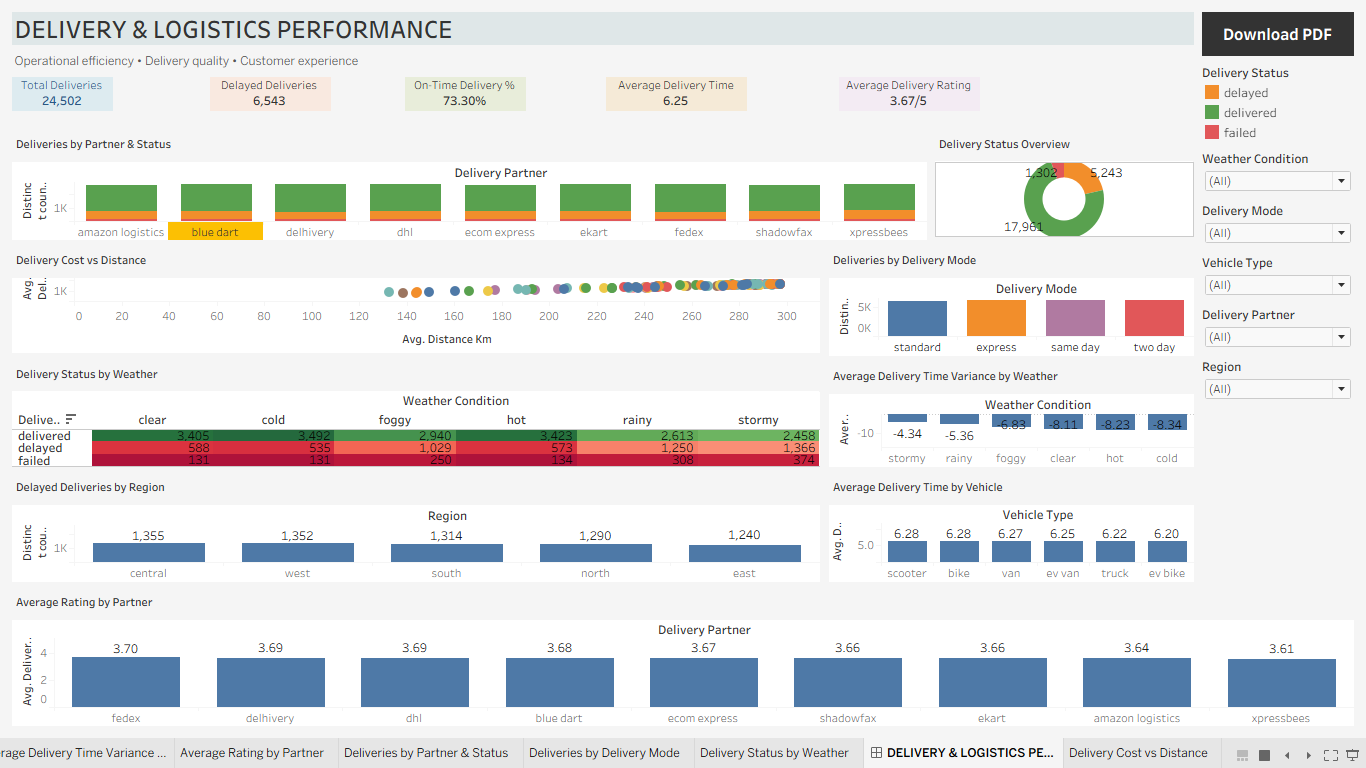

The page's visual inventory and layout, read from the dashboard file:
{"tool":"tableau","page":{"name":"DELIVERY & LOGISTICS PERFORMANCE","canvas":[1000,1000],"units":"permille","ordinal":0},"visuals":[{"type":"title","box":[6,13.5,868.7,60.5]},{"type":"dashboard-object","box":[874.6,13.5,119.4,87.8]},{"type":"text","box":[6,74,868.7,40.5]},{"type":"legend","title":"Delivery Status Overview","param":"[federated.03cug4i1saw9xf1507eqc01hjee7].[none:delivery_status:nk]","box":[874.6,101.4,119.4,145.3]},{"type":"worksheet","title":"TOTAL DELIVERIES","mark":"Automatic","box":[6,114.5,144.8,60.5]},{"type":"worksheet","title":"DELAYED DELIVERIES","mark":"Automatic","box":[150.7,114.5,142.3,60.5]},{"type":"worksheet","title":"On-Time Delivery %","mark":"Automatic","box":[293,114.5,146.5,60.5]},{"type":"worksheet","title":"Average Delivery Time","mark":"Automatic","box":[439.5,114.5,169.9,60.5]},{"type":"worksheet","title":"Average Delivery Rating","mark":"Automatic","box":[609.4,114.5,265.2,60.5]},{"type":"worksheet","title":"Deliveries by Partner & Status","mark":"Bar","rows":["delivery_id"],"cols":["delivery_partner"],"box":[6,175,674,157.2]},{"type":"worksheet","title":"Delivery Status Overview","mark":"Pie","rows":["Calculation_2459914980171777","Calculation_2459914980171777"],"box":[680,175,194.7,157.2]},{"type":"filter","title":"Average Delivery Time by Vehicle","param":"[federated.03cug4i1saw9xf1507eqc01hjee7].[none:weather_condition:nk]","box":[874.6,246.6,119.4,87.8]},{"type":"worksheet","title":"Delivery Cost vs Distance","mark":"Circle","rows":["delivery_cost"],"cols":["distance_km"],"box":[6,332.2,596,152.4]},{"type":"worksheet","title":"Deliveries by Delivery Mode","mark":"Automatic","rows":["delivery_id"],"cols":["delivery_mode"],"box":[602,332.2,272.6,155.7]},{"type":"filter","title":"Average Delivery Time by Vehicle","param":"[federated.03cug4i1saw9xf1507eqc01hjee7].[none:delivery_mode:nk]","box":[874.6,334.4,119.4,87.8]},{"type":"filter","title":"Average Delivery Time by Vehicle","param":"[federated.03cug4i1saw9xf1507eqc01hjee7].[none:vehicle_type:nk]","box":[874.6,422.3,119.4,87.8]},{"type":"worksheet","title":"Delivery Status by Weather","mark":"Square","rows":["delivery_status"],"cols":["weather_condition"],"box":[6,484.6,596,152.6]},{"type":"worksheet","title":"Average Delivery Time Variance by Weather","mark":"Bar","rows":["Calculation_2459914985918466"],"cols":["weather_condition"],"box":[602,487.9,272.6,149.3]},{"type":"filter","title":"Average Delivery Time by Vehicle","param":"[federated.03cug4i1saw9xf1507eqc01hjee7].[none:delivery_partner:nk]","box":[874.6,510.1,119.4,87.8]},{"type":"filter","title":"Average Delivery Time by Vehicle","param":"[federated.03cug4i1saw9xf1507eqc01hjee7].[none:region:nk]","box":[874.6,597.9,119.4,87.8]},{"type":"worksheet","title":"Delayed Deliveries by Region","mark":"Automatic","rows":["delivery_id"],"cols":["region"],"box":[6,637.2,596,154.6]},{"type":"worksheet","title":"Average Delivery Time by Vehicle","mark":"Automatic","rows":["delivery_time_hours"],"cols":["vehicle_type"],"box":[602,637.2,272.6,154.6]},{"type":"worksheet","title":"Average Rating by Partner","mark":"Bar","rows":["delivery_rating"],"cols":["delivery_partner"],"box":[6,791.8,988.1,194.7]}]}

Visuals, with their boxes on the dashboard's canvas, which has no fixed pixel size, in thousandths of its width and height (x1, y1, x2, y2). These are canvas units, not pixel positions in the 1366x768 screenshot, which may show the page scaled, cropped or inside an application window:
title: bbox=[6, 14, 875, 74]
dashboard-object: bbox=[875, 14, 994, 101]
text: bbox=[6, 74, 875, 114]
"Delivery Status Overview" legend: bbox=[875, 101, 994, 247]
"TOTAL DELIVERIES" worksheet: bbox=[6, 114, 151, 175]
"DELAYED DELIVERIES" worksheet: bbox=[151, 114, 293, 175]
"On-Time Delivery %" worksheet: bbox=[293, 114, 440, 175]
"Average Delivery Time" worksheet: bbox=[440, 114, 609, 175]
"Average Delivery Rating" worksheet: bbox=[609, 114, 875, 175]
"Deliveries by Partner & Status" worksheet (Bar marks): bbox=[6, 175, 680, 332]
"Delivery Status Overview" worksheet (Pie marks): bbox=[680, 175, 875, 332]
"Average Delivery Time by Vehicle" filter: bbox=[875, 247, 994, 334]
"Delivery Cost vs Distance" worksheet (Circle marks): bbox=[6, 332, 602, 485]
"Deliveries by Delivery Mode" worksheet: bbox=[602, 332, 875, 488]
"Average Delivery Time by Vehicle" filter: bbox=[875, 334, 994, 422]
"Average Delivery Time by Vehicle" filter: bbox=[875, 422, 994, 510]
"Delivery Status by Weather" worksheet (Square marks): bbox=[6, 485, 602, 637]
"Average Delivery Time Variance by Weather" worksheet (Bar marks): bbox=[602, 488, 875, 637]
"Average Delivery Time by Vehicle" filter: bbox=[875, 510, 994, 598]
"Average Delivery Time by Vehicle" filter: bbox=[875, 598, 994, 686]
"Delayed Deliveries by Region" worksheet: bbox=[6, 637, 602, 792]
"Average Delivery Time by Vehicle" worksheet: bbox=[602, 637, 875, 792]
"Average Rating by Partner" worksheet (Bar marks): bbox=[6, 792, 994, 986]
